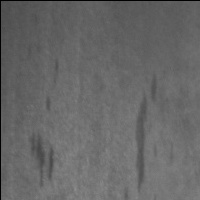inclusion: (133, 69, 164, 197), (25, 128, 62, 192), (40, 53, 65, 117)
